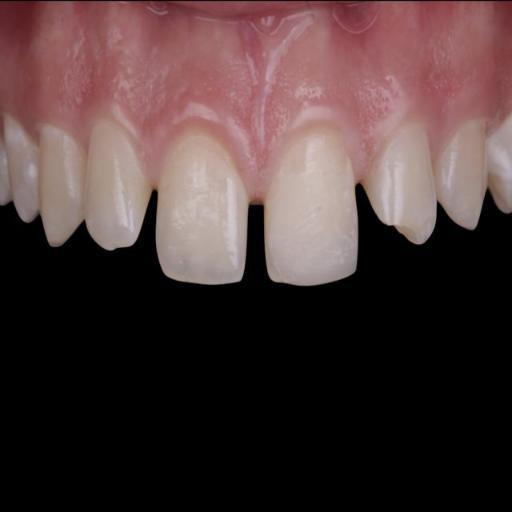spaced: (242, 184, 274, 278), (352, 162, 374, 244), (140, 174, 164, 248)
